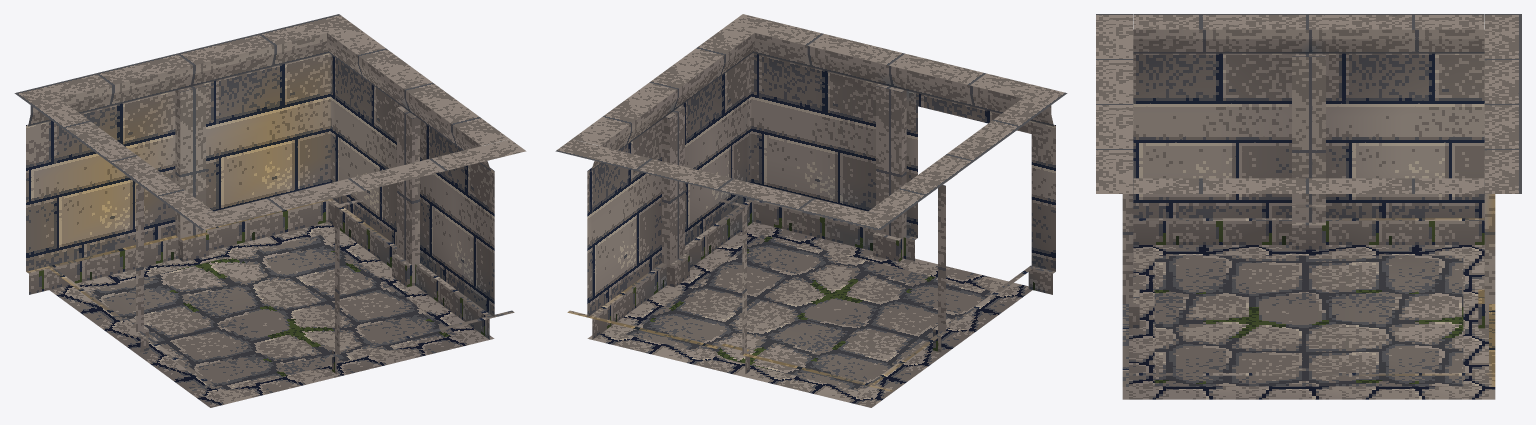
The model's file is dgn.room__small.glb.
The picture shows the model from 3 angles, left to right: view 1: azimuth 30°, elevation 25°; view 2: azimuth 150°, elevation 25°; view 3: azimuth 270°, elevation 25°; orthographic projection. The views are drawn at different scales.
Visible parts, largest first — view 1: kit_shell_walls, kit_shell_floor; view 2: kit_shell_walls, kit_shell_floor; view 3: kit_shell_walls, kit_shell_floor.
Boxes of the visible parts, x1=… form: kit_shell_walls: x1=14, y1=14, x2=526, y2=391; kit_shell_floor: x1=49, y1=222, x2=494, y2=407; kit_shell_walls: x1=555, y1=14, x2=1067, y2=391; kit_shell_floor: x1=587, y1=222, x2=1032, y2=407; kit_shell_walls: x1=1096, y1=14, x2=1521, y2=386; kit_shell_floor: x1=1122, y1=245, x2=1495, y2=399.
Bounding box in the file's own units: 8 × 4.5 × 8.
5 materials, 5 textured.
